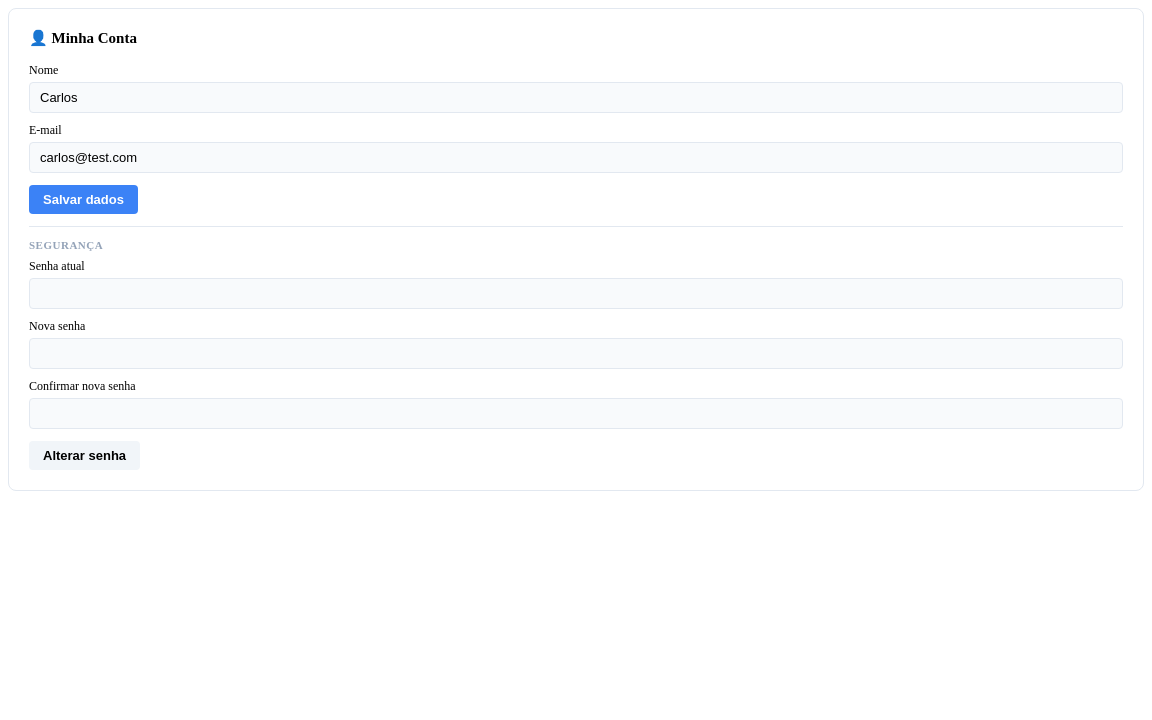
Test: ContaCard — validação de senha › shows error when new password is shorter than 6 characters
The width and height of the screenshot is (1152, 720).
Type "atual123" into the password field below "Senha atual".
click(576, 294); type("atual123")  # box [29,278,1123,309]
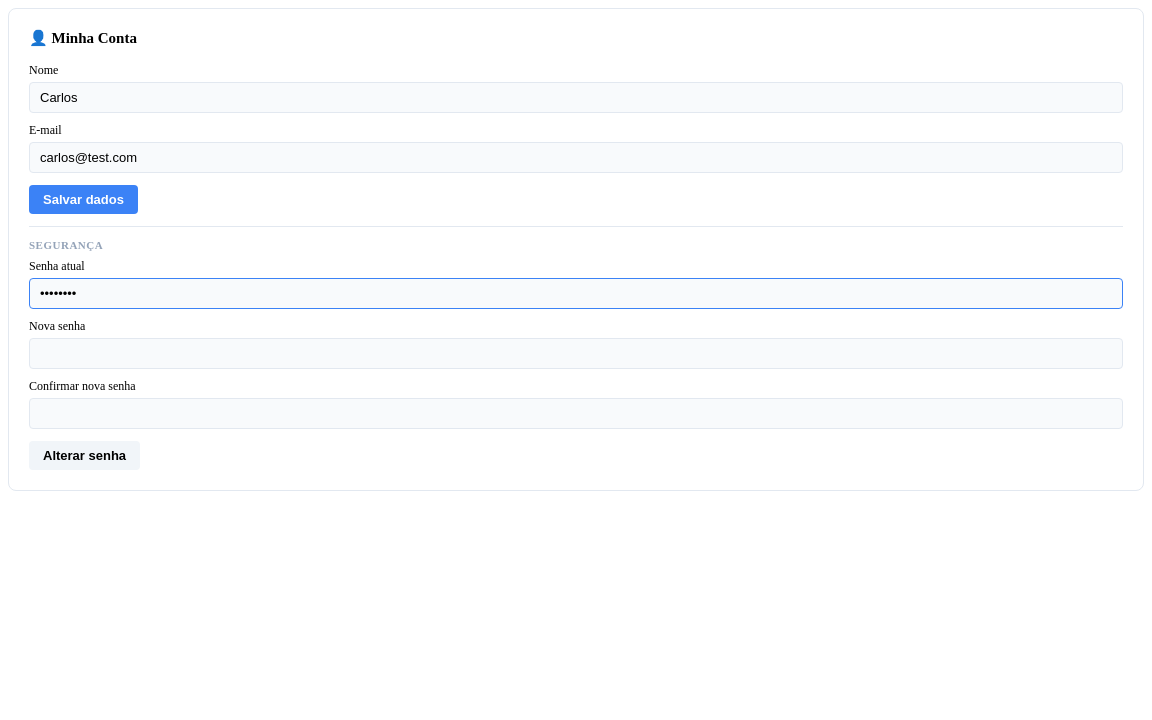
Type "123" into the 2nd password field.
click(576, 354); type("123")  # box [29,338,1123,369]
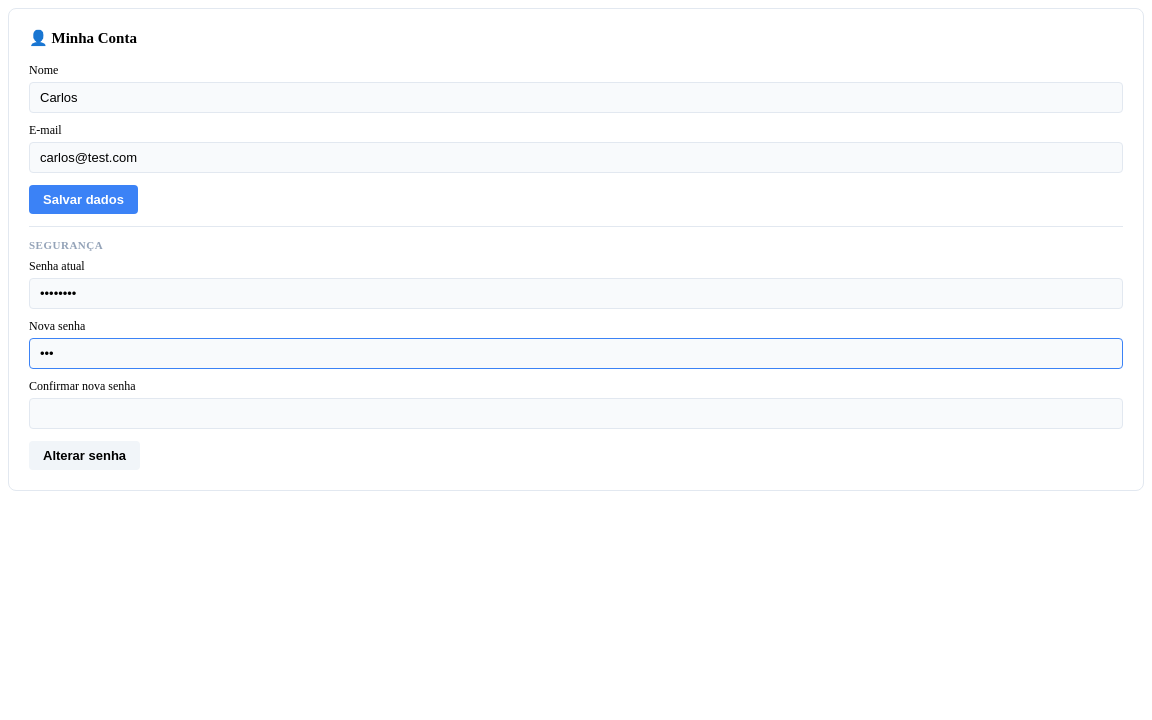
Type "123" into the password field below "Confirmar nova senha".
click(576, 414); type("123")  # box [29,398,1123,429]
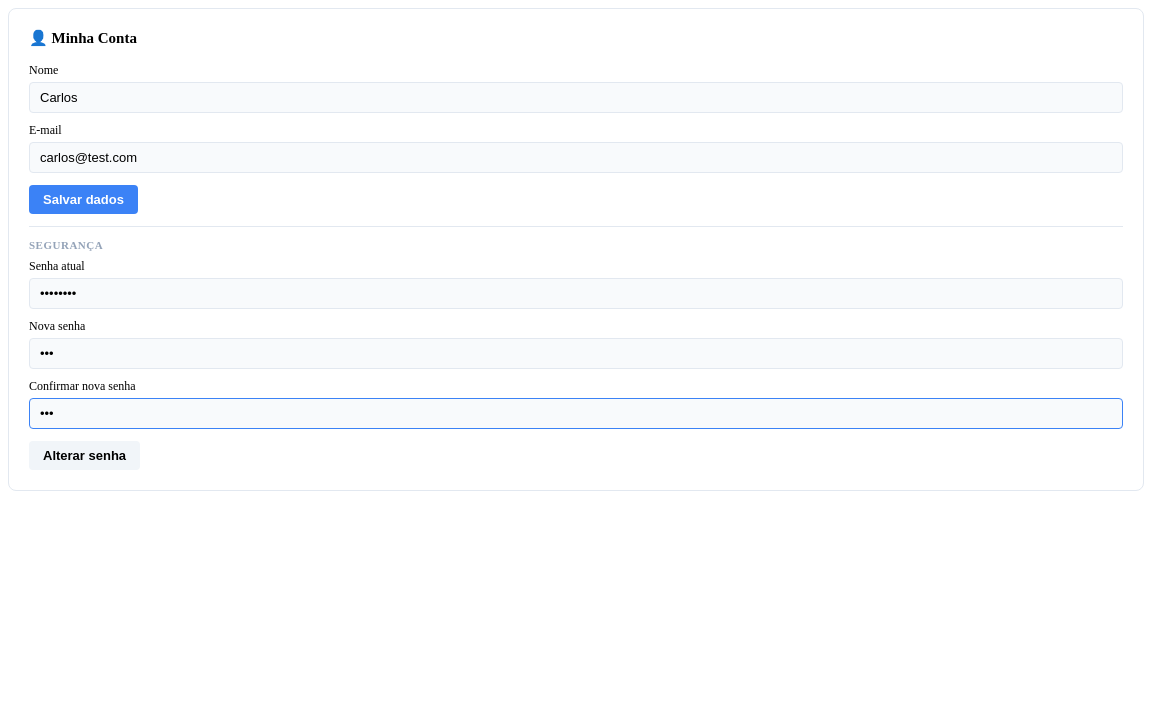
Click the button "Alterar senha".
click(85, 456)  # box [29,441,140,470]
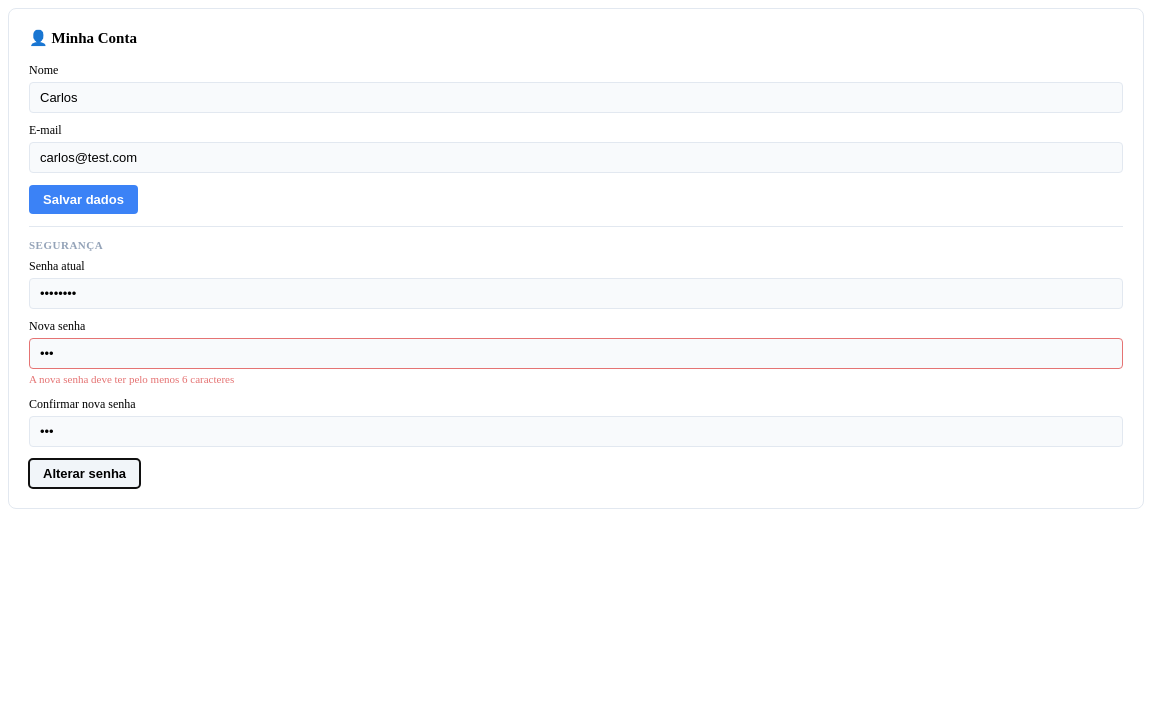
Expected: the text "A nova senha deve ter pelo menos 6 caracteres" is shown, [29,373,234,385]
